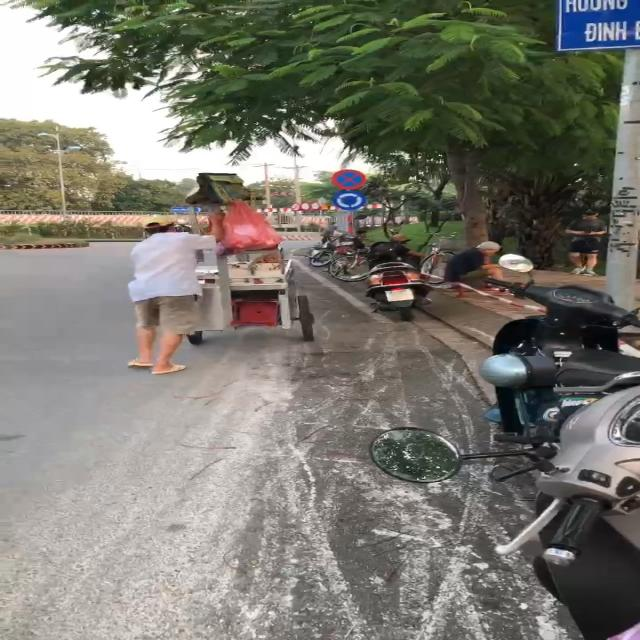Bien bao cam dung xe va do xe: (329, 168, 372, 190)
Bien bao noi giao nhau chay theo vong xuyen: (332, 190, 367, 212)
